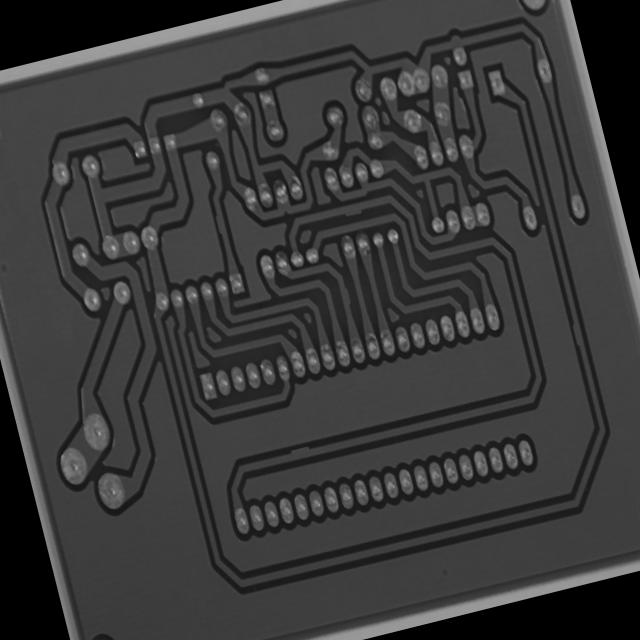spur: (284, 436, 313, 462), (210, 206, 230, 243), (338, 196, 365, 223), (568, 317, 588, 353), (334, 280, 354, 308)
